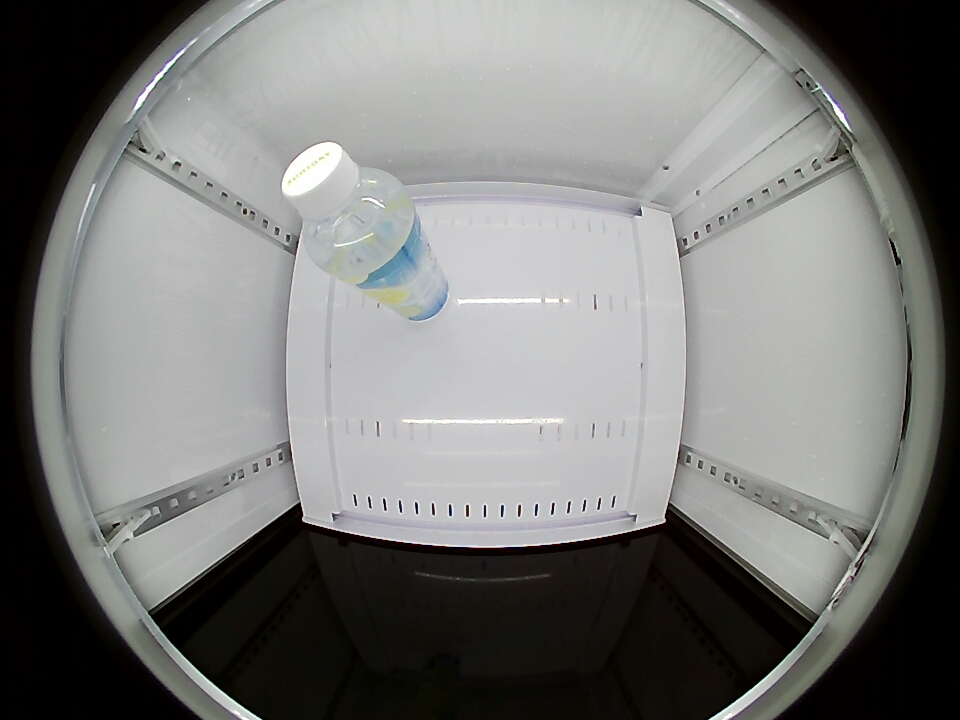qinningshui: (282, 141, 416, 279)
